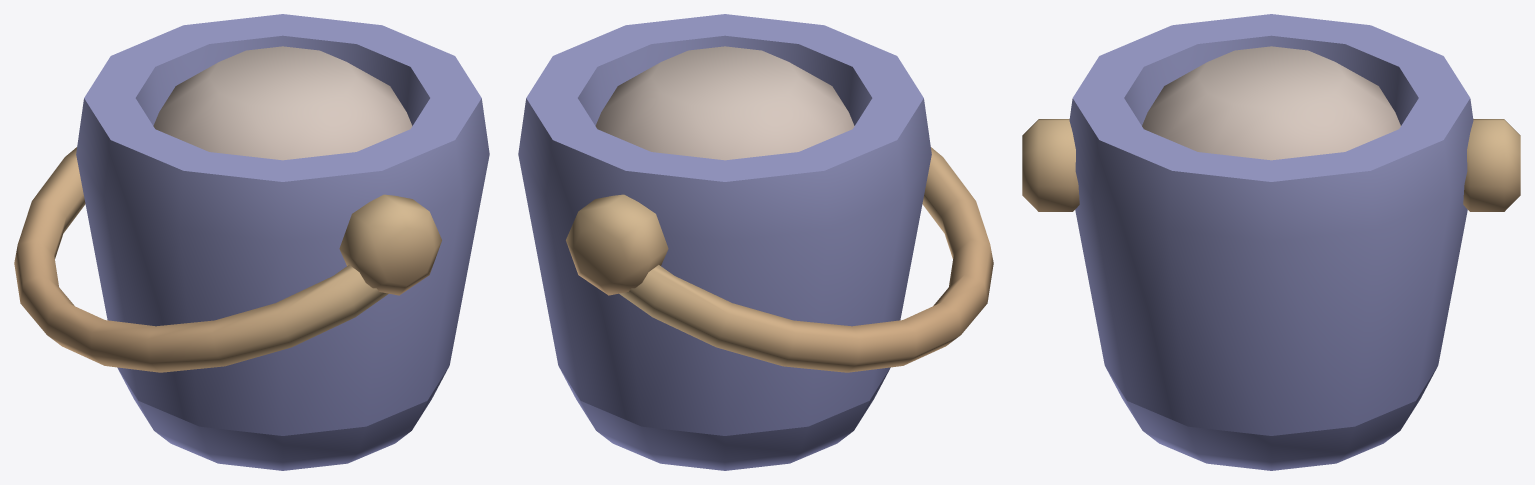
Rendered from toy-bucket-sand.glb.
3 views of the same model, side by side, from view 1: azimuth 30°, elevation 25°; view 2: azimuth 150°, elevation 25°; view 3: azimuth 270°, elevation 25° (orthographic).
Parts seen in each view (by area): view 1: toy-bucket-sand; view 2: toy-bucket-sand; view 3: toy-bucket-sand.
Boxes of the visible parts, x1,y1,x2,y2 form: toy-bucket-sand: (14,14,489,470); toy-bucket-sand: (518,14,993,470); toy-bucket-sand: (1022,14,1520,470).
Size of the model in its own units: 0.3046 by 0.2375 by 0.3169.
